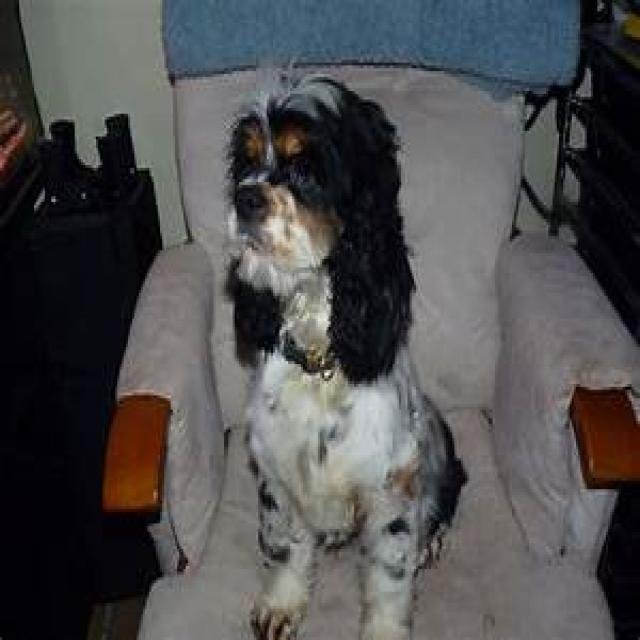dog: (209, 80, 467, 640)
